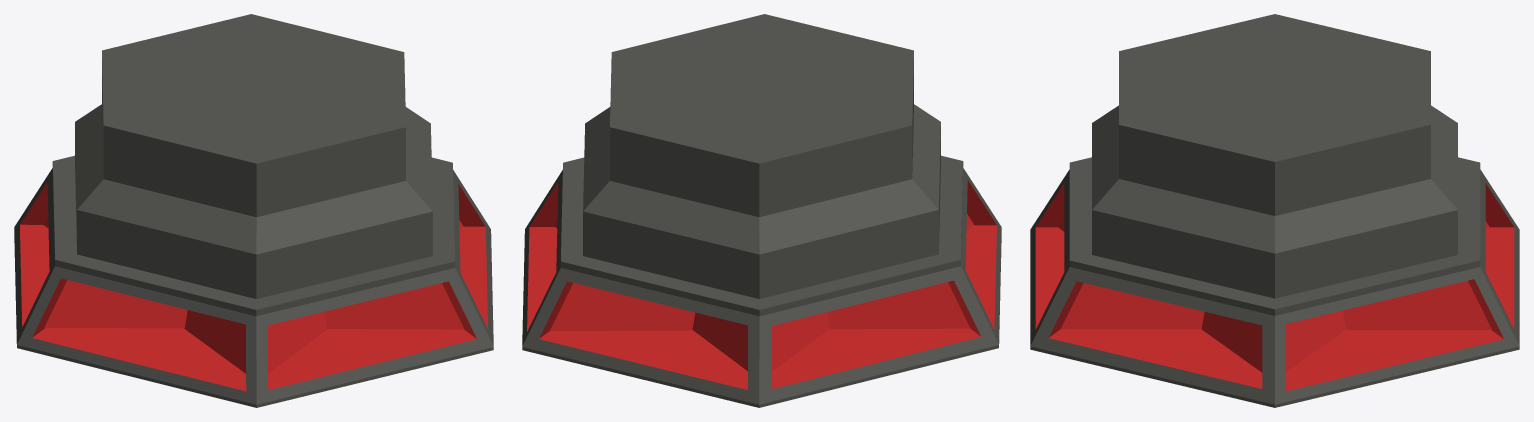
The model's file is AssemblerGround2.fbx.
3 renders of one model, left to right at view 1: azimuth 30°, elevation 25°; view 2: azimuth 150°, elevation 25°; view 3: azimuth 270°, elevation 25°, orthographic.
Parts seen in each view (by area): view 1: AssemblerGround2; view 2: AssemblerGround2; view 3: AssemblerGround2.
Part boxes in pixels (<box>): AssemblerGround2: <box>14,14,493,407</box>; AssemblerGround2: <box>522,14,1001,407</box>; AssemblerGround2: <box>1030,14,1519,407</box>.
Size of the model in its own units: 139 by 56.29 by 123.
